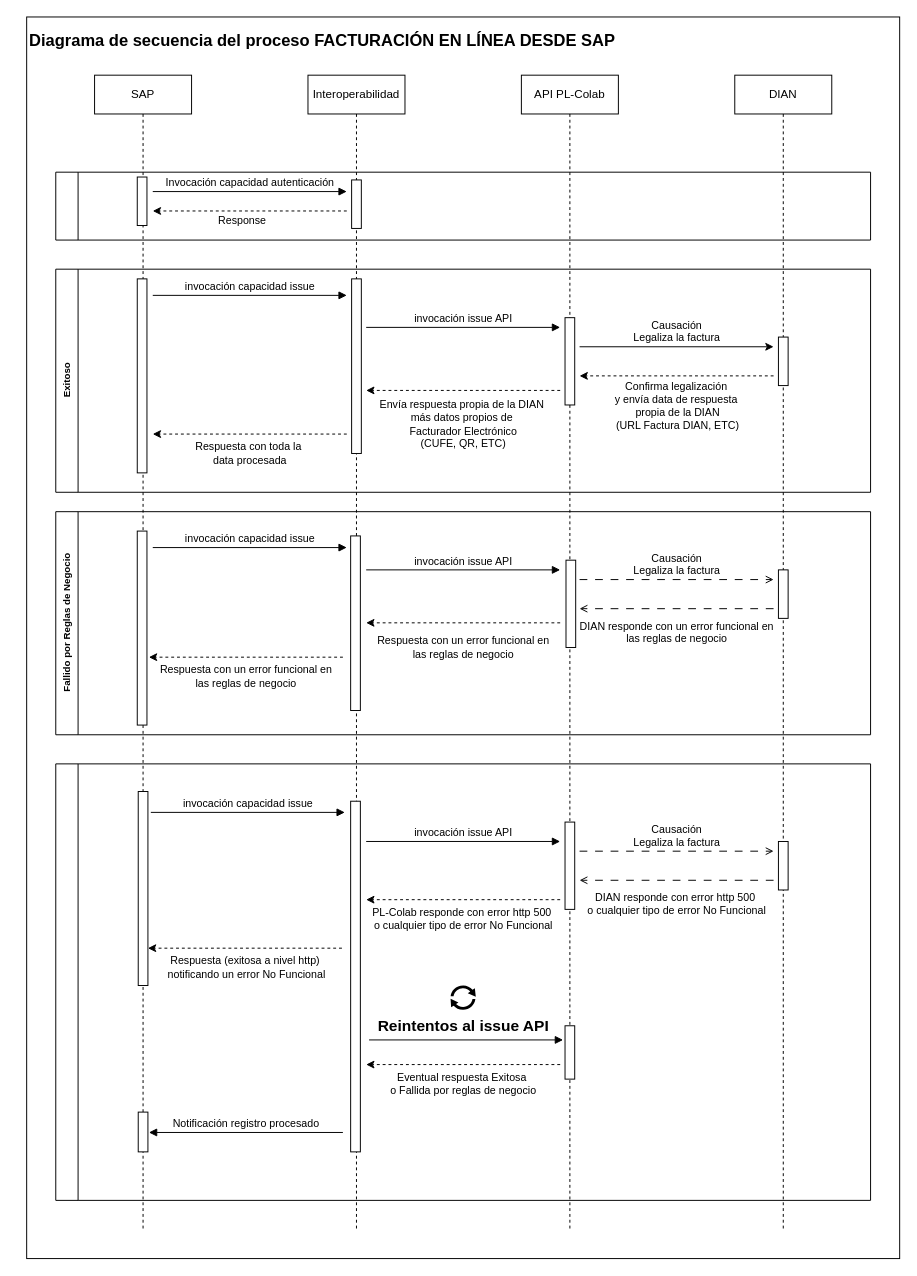
This 917x1276 diagram has some shape labels left out. The centre of each missing label's shape, as x and y in pixels:
"Autenticación" belongs at (463,205).
"Fallido con Reintentos" belongs at (463,981).
